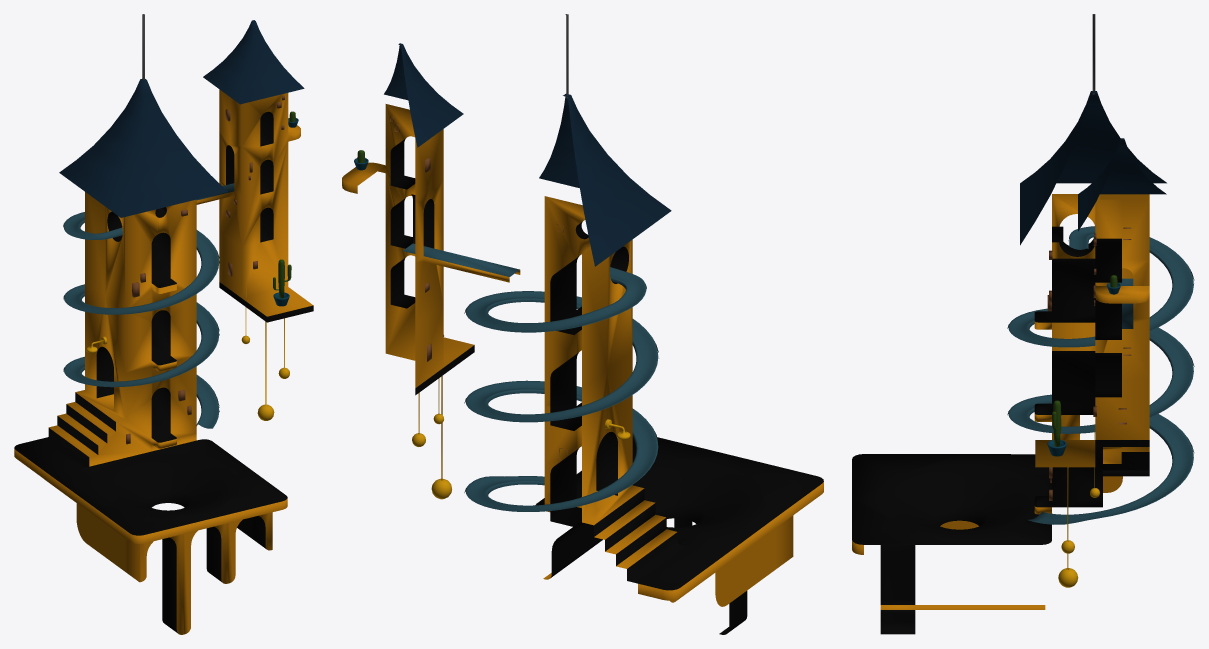
Rendered from marble-tower.glb.
3 renders of one model, left to right at view 1: azimuth 30°, elevation 25°; view 2: azimuth 150°, elevation 25°; view 3: azimuth 270°, elevation 25°, orthographic. The views are drawn at different scales.
Parts seen in each view (by area): view 1: towers; view 2: towers; view 3: towers.
Boxes of the visible parts, x1,y1,x2,y2 form: towers: (14,14,313,634); towers: (342,14,823,634); towers: (852,14,1194,634).
Bounding box in the file's own units: 4.06 × 7.74 × 3.71.
